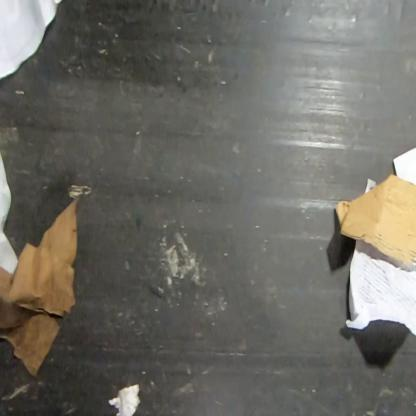cardboard: (335, 171, 415, 267)
